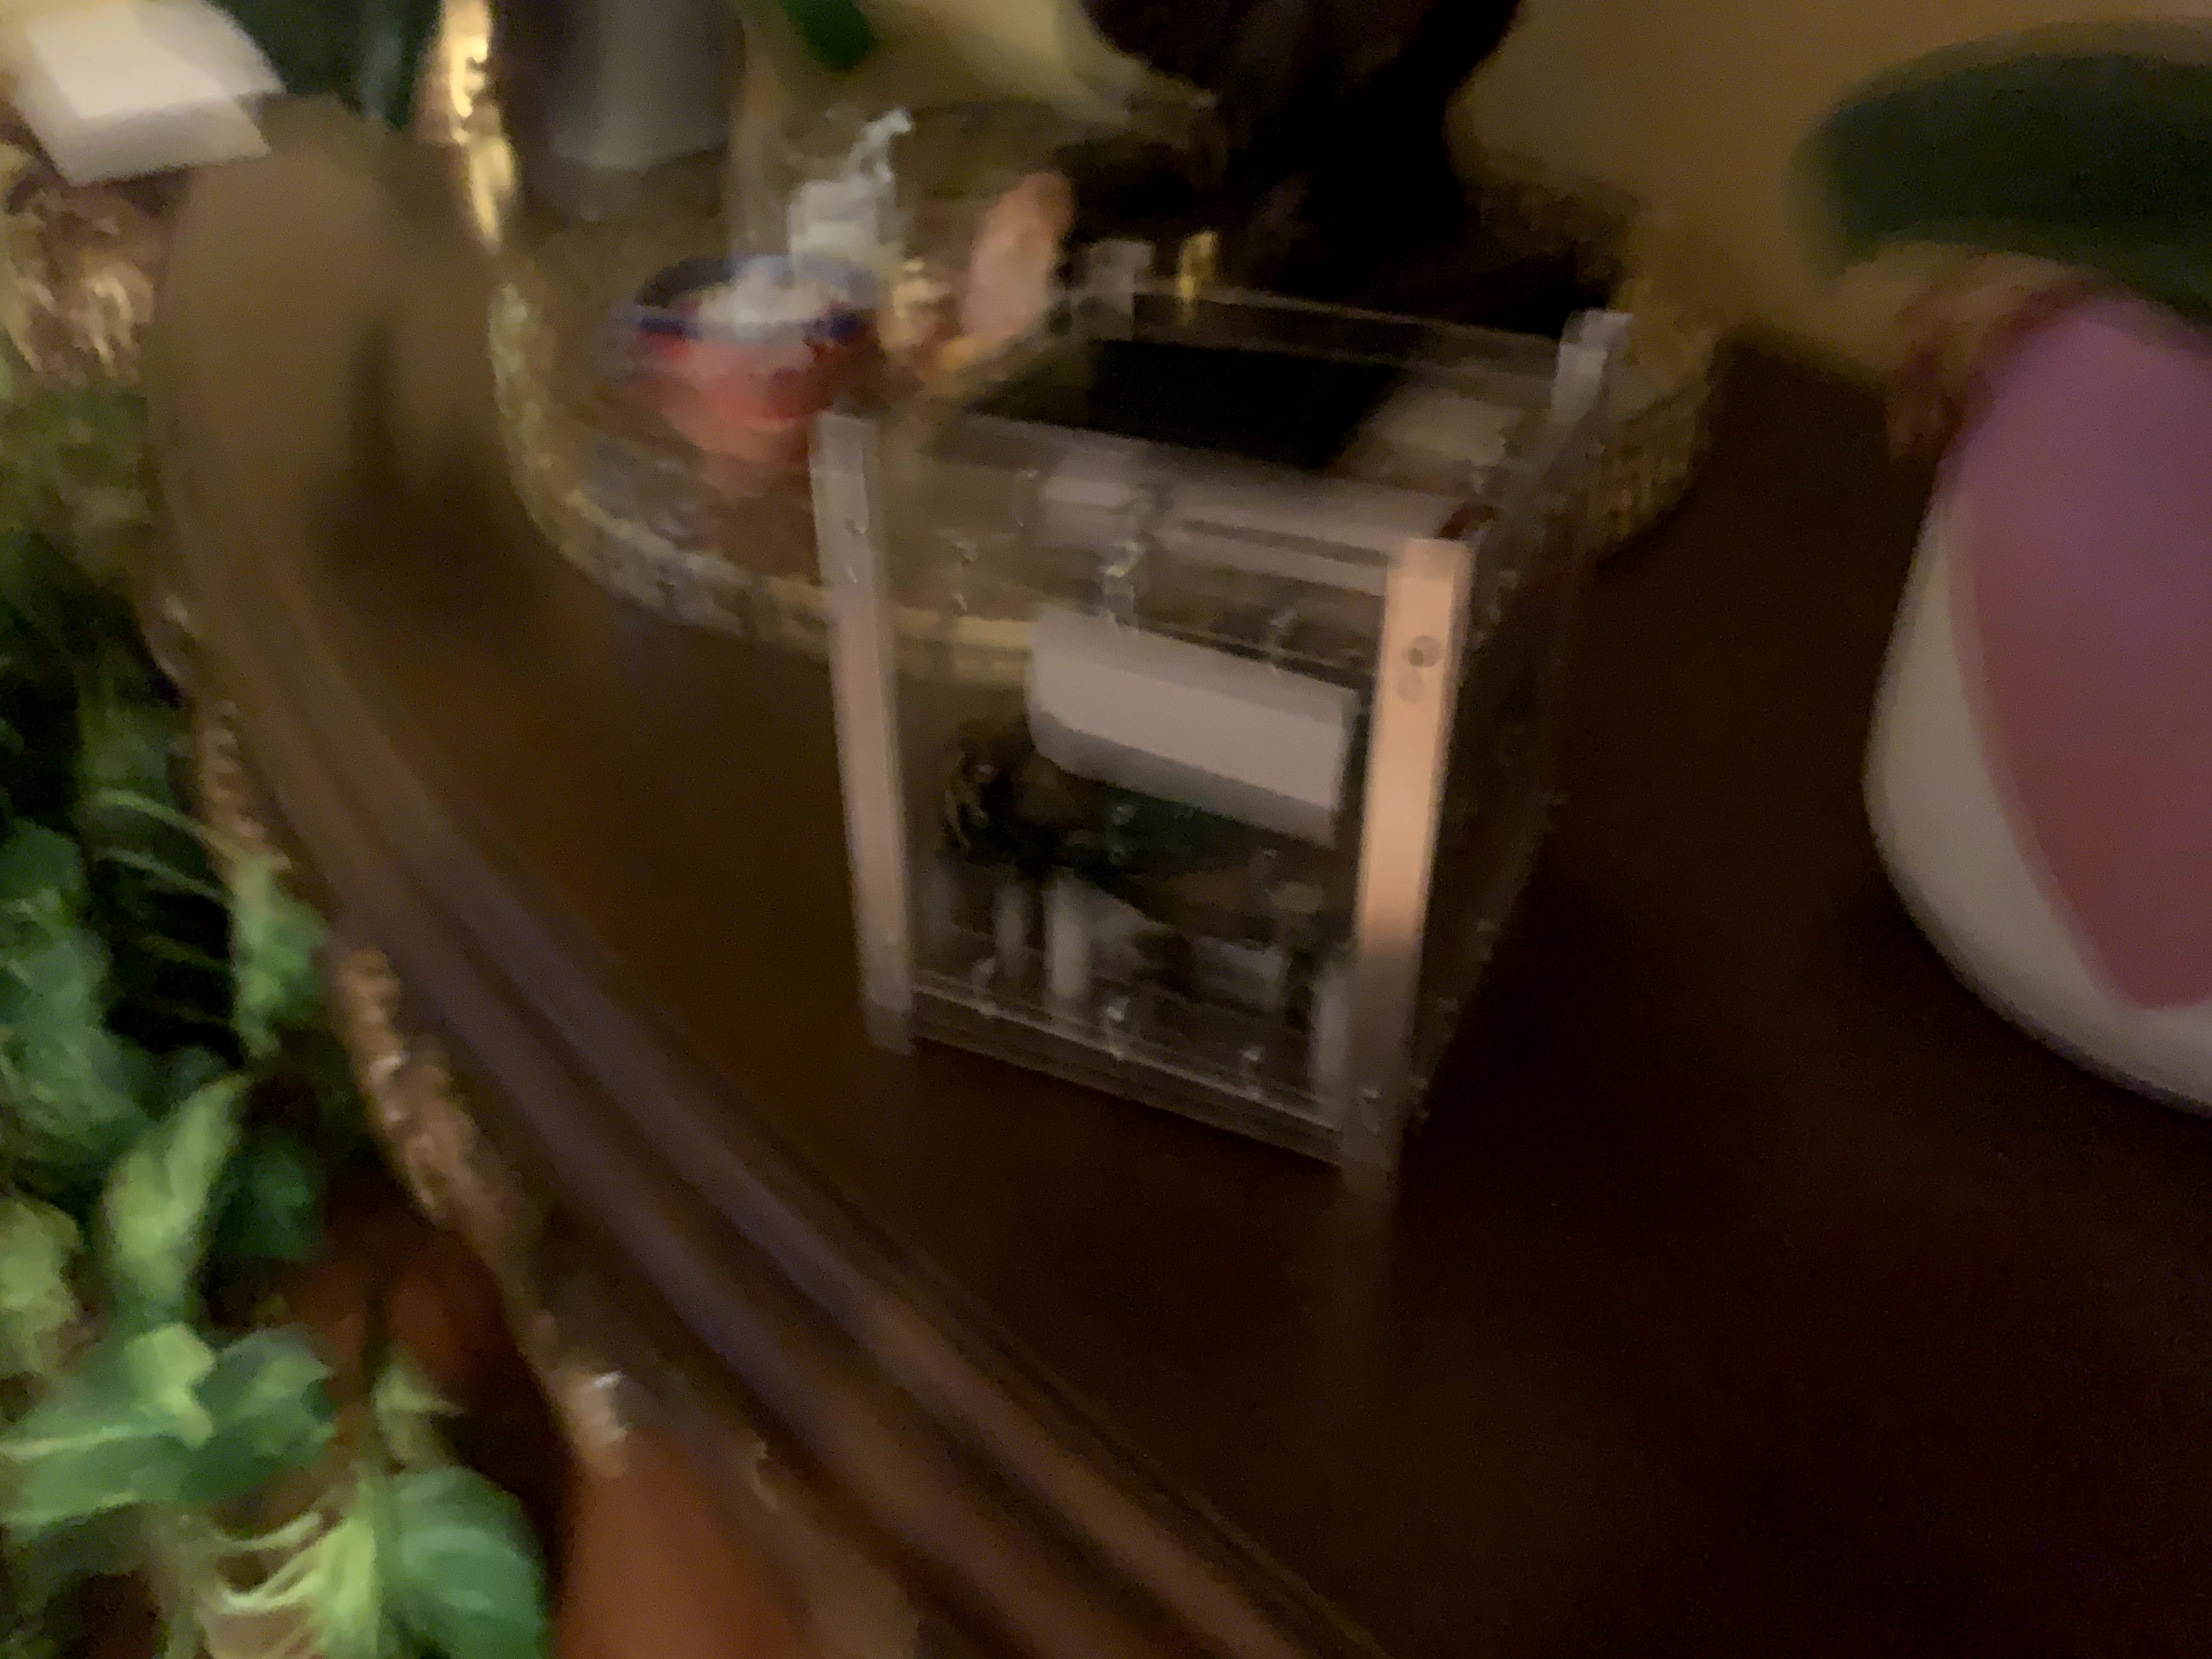Space-debris-cubesat: (763, 258, 1669, 1182)
